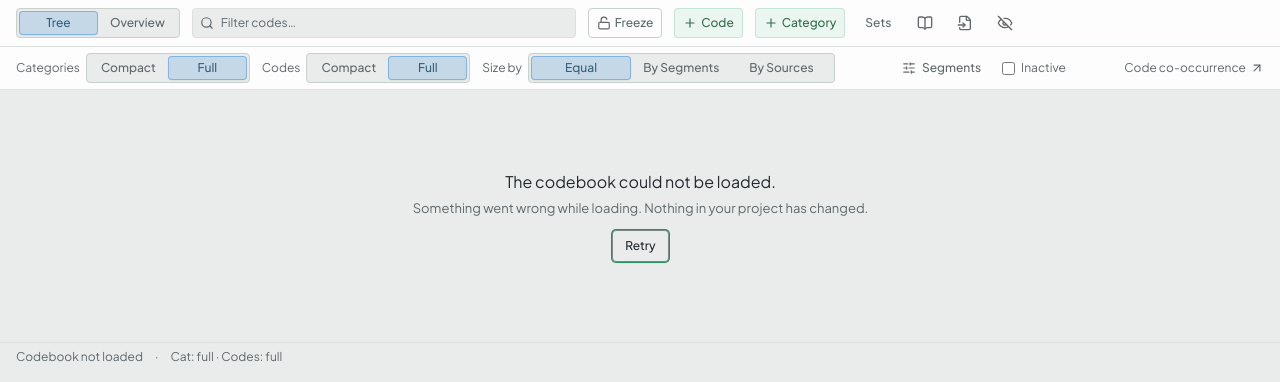
Test case: #961 — the Codebook page counts only an answered tree › a FAILED tree says so instead of a blank page under zeros; Retry asks again and lands focus
Expected: the text "The codebook could not be loaded." is shown, x1=505 y1=171 x2=776 y2=192
Expected: the text "Codebook not loaded" is shown, x1=16 y1=349 x2=143 y2=365
Step 1. Click the button "Retry" → (640, 246), box x1=612 y1=230 x2=669 y2=262
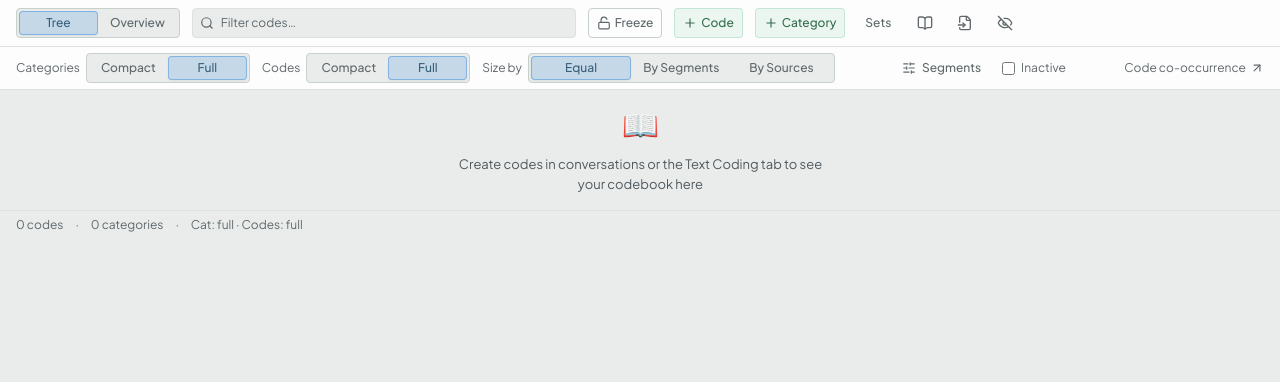
Expected: the text "0 codes" is shown, x1=16 y1=217 x2=63 y2=233
